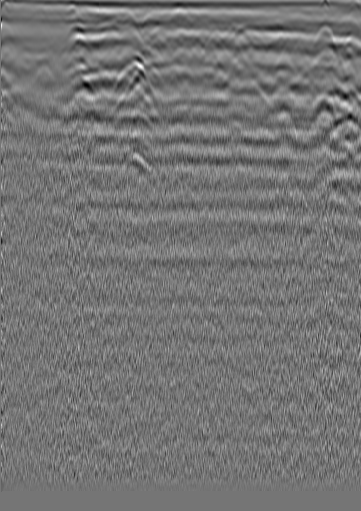가스: (115, 151, 152, 179)
상수: (315, 19, 335, 39)
오수: (32, 4, 52, 24)
우수: (171, 8, 191, 28)
